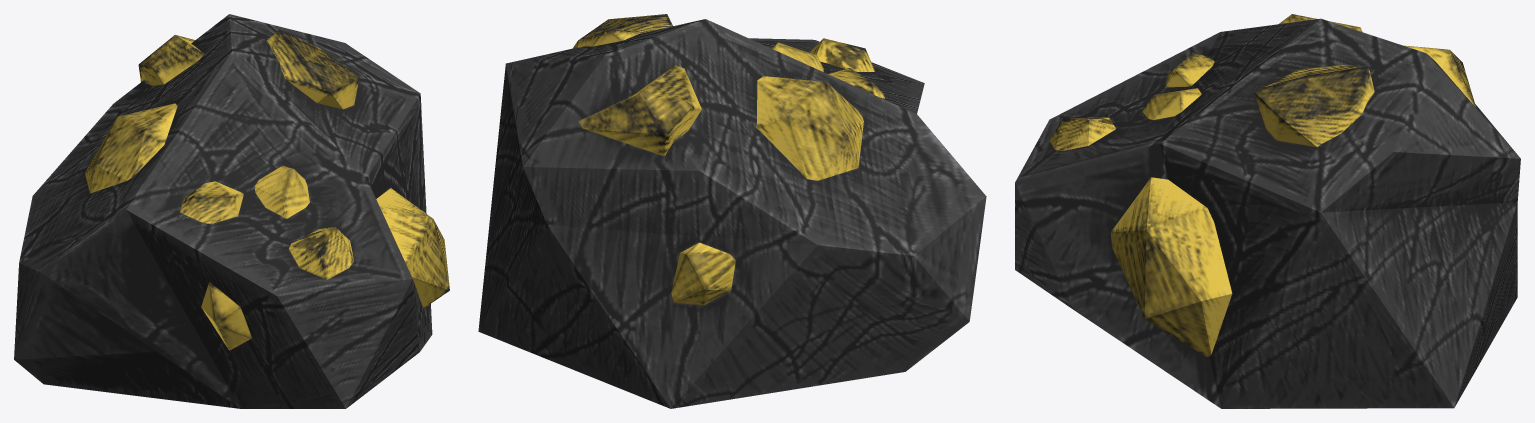
File: gold.glb
3 views of the same model, side by side, from view 1: azimuth 30°, elevation 25°; view 2: azimuth 150°, elevation 25°; view 3: azimuth 270°, elevation 25° (orthographic). The views are drawn at different scales.
Parts seen in each view (by area): view 1: gold; view 2: gold; view 3: gold.
Boxes of the visible parts, x1,y1,x2,y2 form: gold: (14,14,449,408); gold: (478,14,986,408); gold: (1015,14,1520,408).
Bounding box in the file's own units: 0.7885 × 0.6 × 0.7591.
1 material, 1 textured.
